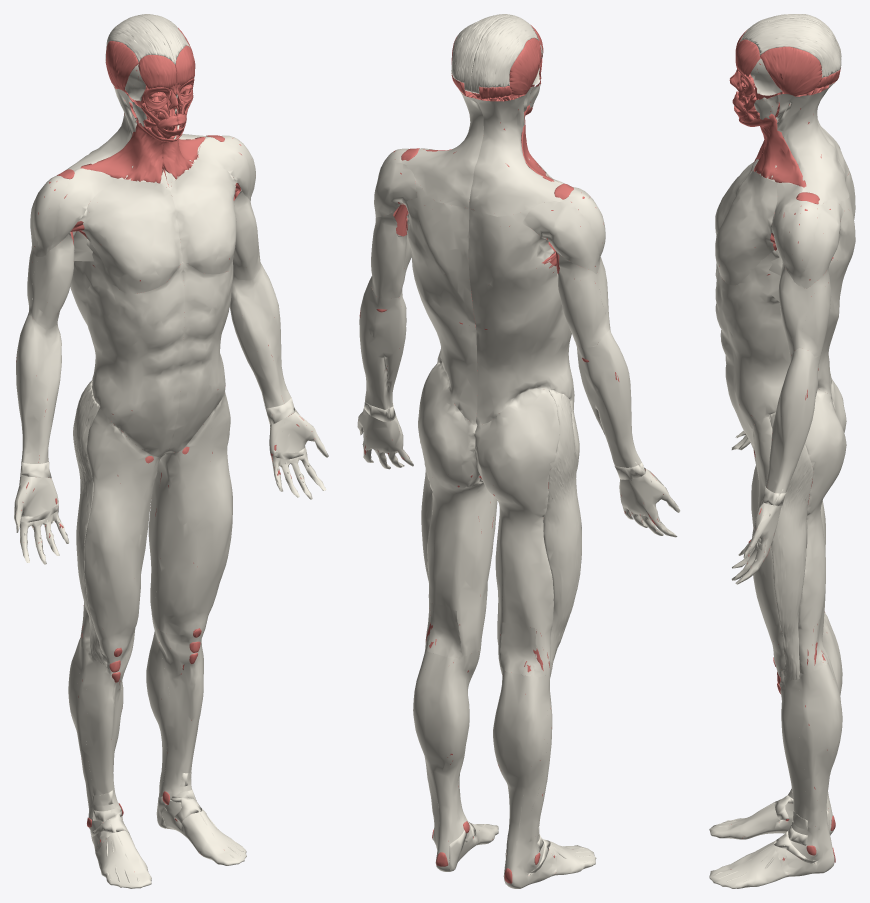
Rendered from muscular.glb.
The picture shows the model from 3 angles, left to right: view 1: azimuth 30°, elevation 25°; view 2: azimuth 150°, elevation 25°; view 3: azimuth 270°, elevation 25°; orthographic projection. The views are drawn at different scales.
Visible parts, largest first — view 1: MUS.investing_abdominal_fascia.R, MUS.fascia_lata.L, MUS.fascia_lata.R, MUS.crural_fascia.L, MUS.crural_fascia.R, MUS.pectoral_fascia.R, MUS.investing_abdominal_fascia.L, MUS.pectoral_fascia.L, MUS.antebrachial_fascia.R, MUS.antebrachial_fascia.L, MUS.deltoid_fascia.R, MUS.brachial_fascia.R (+13 smaller); view 2: MUS.investing_abdominal_fascia.R, MUS.fascia_lata.R, MUS.fascia_lata.L, MUS.crural_fascia.R, MUS.investing_abdominal_fascia.L, MUS.crural_fascia.L, MUS.superficial_investing_cervical_fascia.R, MUS.iliotibial_tract.R, MUS.antebrachial_fascia.R, MUS.antebrachial_fascia.L, MUS.deltoid_fascia.R, MUS.superficial_investing_cervical_fascia.L (+11 smaller); view 3: MUS.investing_abdominal_fascia.L, MUS.crural_fascia.L, MUS.fascia_lata.L, MUS.iliotibial_tract.L, MUS.deltoid_fascia.L, MUS.pectoral_fascia.L, MUS.superficial_investing_cervical_fascia.L, MUS.antebrachial_fascia.L, MUS.brachial_fascia.L, MUS.epicranial_aponeurosis.L, MUS.crural_fascia.R, MUS.temporoparietalis_muscle.L (+13 smaller).
Boxes of the visible parts, x1=… form: MUS.investing_abdominal_fascia.R: x1=70, y1=239, x2=184, y2=456; MUS.fascia_lata.L: x1=148, y1=391, x2=232, y2=637; MUS.fascia_lata.R: x1=73, y1=388, x2=165, y2=658; MUS.crural_fascia.L: x1=146, y1=621, x2=246, y2=865; MUS.crural_fascia.R: x1=68, y1=637, x2=151, y2=888; MUS.pectoral_fascia.R: x1=78, y1=178, x2=182, y2=294; MUS.investing_abdominal_fascia.L: x1=167, y1=262, x2=233, y2=452; MUS.pectoral_fascia.L: x1=168, y1=158, x2=237, y2=274; MUS.antebrachial_fascia.R: x1=16, y1=315, x2=61, y2=463; MUS.antebrachial_fascia.L: x1=230, y1=262, x2=291, y2=408; MUS.deltoid_fascia.R: x1=30, y1=169, x2=113, y2=256; MUS.brachial_fascia.R: x1=27, y1=232, x2=74, y2=329; MUS.investing_abdominal_fascia.R: x1=468, y1=206, x2=574, y2=425; MUS.fascia_lata.R: x1=474, y1=389, x2=581, y2=677; MUS.fascia_lata.L: x1=418, y1=363, x2=497, y2=656; MUS.crural_fascia.R: x1=493, y1=665, x2=596, y2=888; MUS.investing_abdominal_fascia.L: x1=401, y1=177, x2=477, y2=424; MUS.crural_fascia.L: x1=413, y1=649, x2=498, y2=871; MUS.superficial_investing_cervical_fascia.R: x1=469, y1=86, x2=567, y2=216; MUS.iliotibial_tract.R: x1=543, y1=390, x2=581, y2=676; MUS.antebrachial_fascia.R: x1=575, y1=329, x2=641, y2=467; MUS.antebrachial_fascia.L: x1=359, y1=276, x2=406, y2=409; MUS.deltoid_fascia.R: x1=522, y1=173, x2=605, y2=273; MUS.superficial_investing_cervical_fascia.L: x1=400, y1=90, x2=483, y2=208; MUS.investing_abdominal_fascia.L: x1=715, y1=193, x2=855, y2=447; MUS.crural_fascia.L: x1=709, y1=656, x2=842, y2=888; MUS.fascia_lata.L: x1=752, y1=388, x2=846, y2=673; MUS.iliotibial_tract.L: x1=769, y1=412, x2=813, y2=682; MUS.deltoid_fascia.L: x1=772, y1=182, x2=844, y2=288; MUS.pectoral_fascia.L: x1=715, y1=171, x2=777, y2=285; MUS.superficial_investing_cervical_fascia.L: x1=753, y1=82, x2=849, y2=205; MUS.antebrachial_fascia.L: x1=765, y1=348, x2=821, y2=493; MUS.brachial_fascia.L: x1=778, y1=260, x2=831, y2=357; MUS.epicranial_aponeurosis.L: x1=739, y1=18, x2=841, y2=77; MUS.crural_fascia.R: x1=709, y1=617, x2=842, y2=839; MUS.temporoparietalis_muscle.L: x1=760, y1=46, x2=822, y2=96.
Bounding box in the file's own units: 0.6713 × 1.7 × 0.2687.
